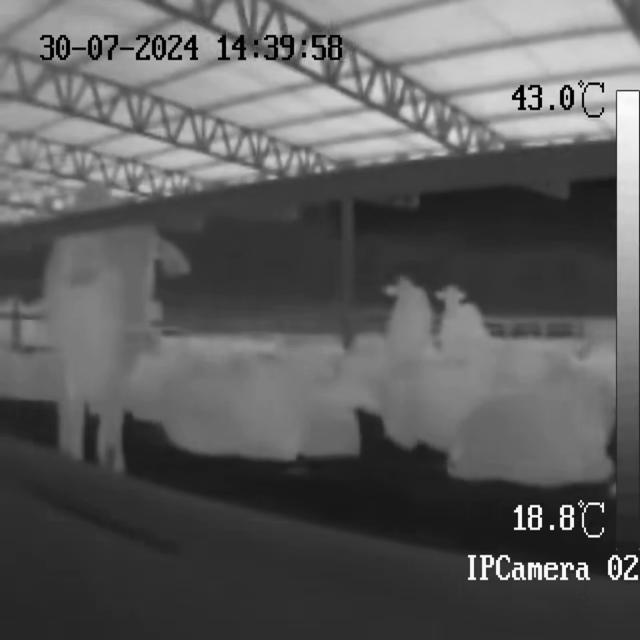head: (101, 232, 163, 356)
